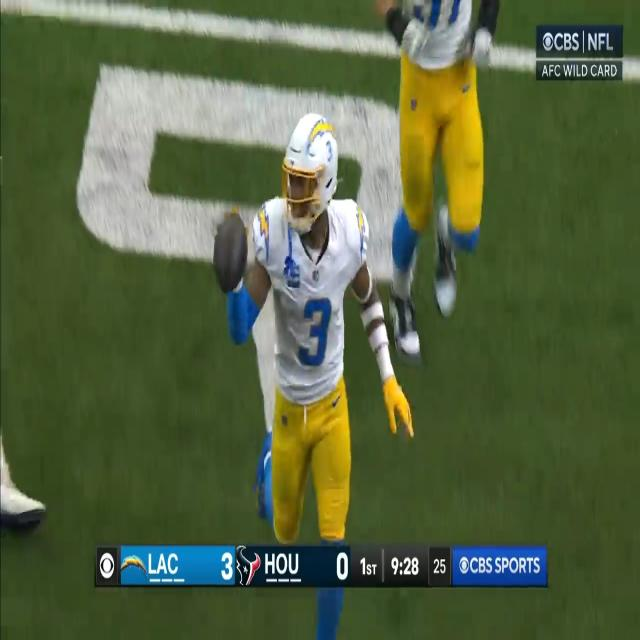Player: (249, 116, 368, 544)
